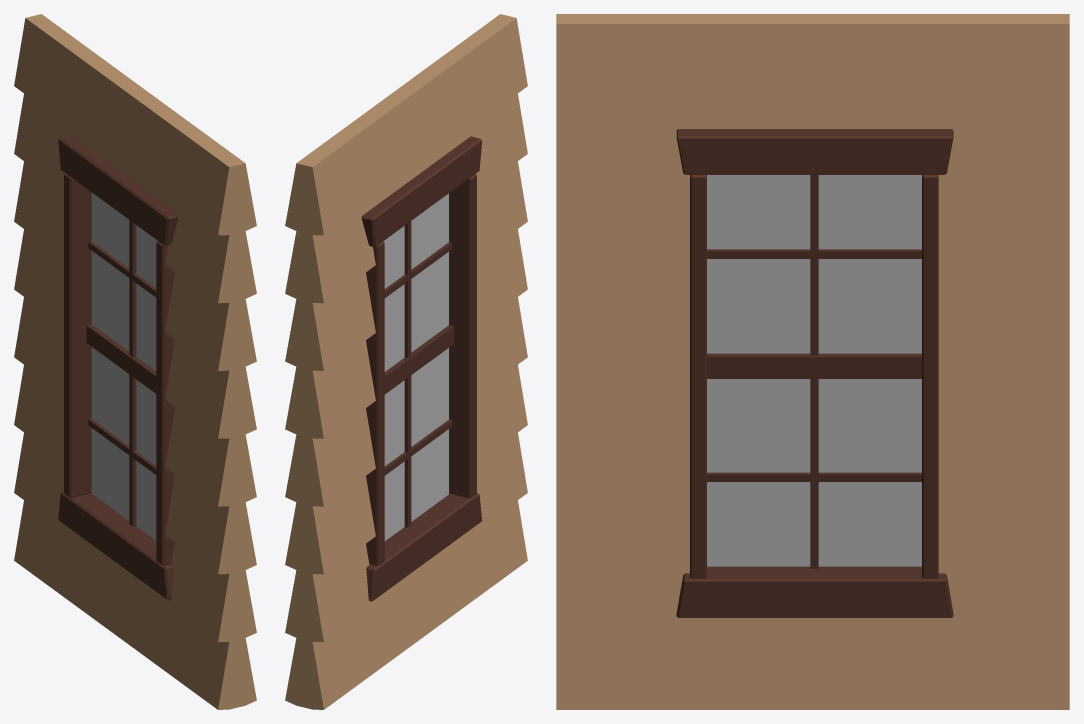
The model's file is Small Window A-col.glb.
3 renders of one model, left to right at view 1: azimuth 30°, elevation 25°; view 2: azimuth 150°, elevation 25°; view 3: azimuth 270°, elevation 25°, orthographic. The views are drawn at different scales.
Parts seen in each view (by area): view 1: Small Window A-col.001; view 2: Small Window A-col.001; view 3: Small Window A-col.001.
Boxes of the visible parts, left/top/right/bottom form: Small Window A-col.001: left=14, top=14, right=256, bottom=709; Small Window A-col.001: left=285, top=14, right=527, bottom=709; Small Window A-col.001: left=556, top=14, right=1069, bottom=709.
Bounding box in the file's own units: 0.1948 × 2.2 × 1.5.
